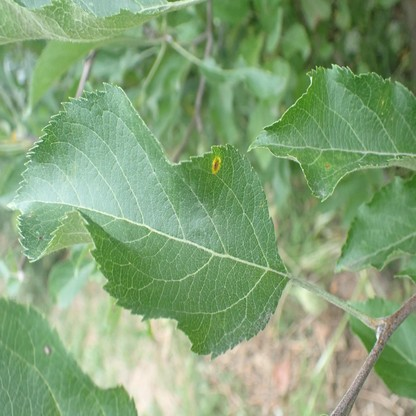rust: (212, 155, 221, 171)
